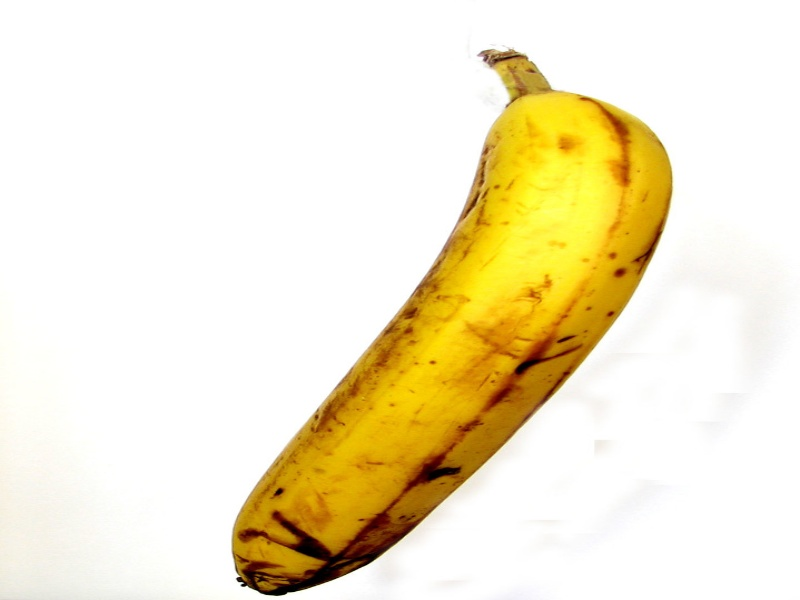banana: (235, 33, 674, 599)
